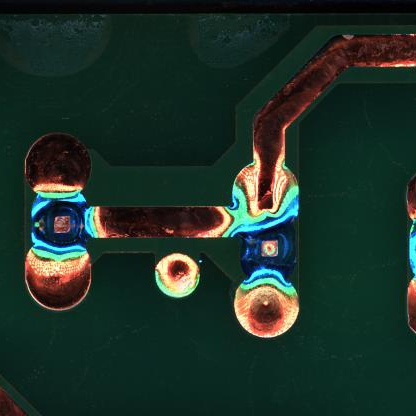spot: (29, 192, 88, 259), (239, 216, 299, 279)
